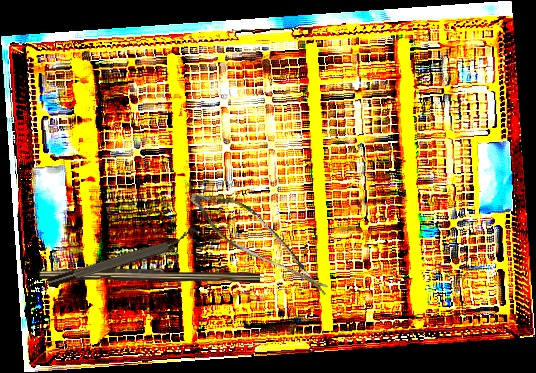Fixation Ring: (44, 225, 202, 291)
Micro Scissor: (176, 183, 349, 297)
Scalpel Handle: (39, 266, 260, 283)
